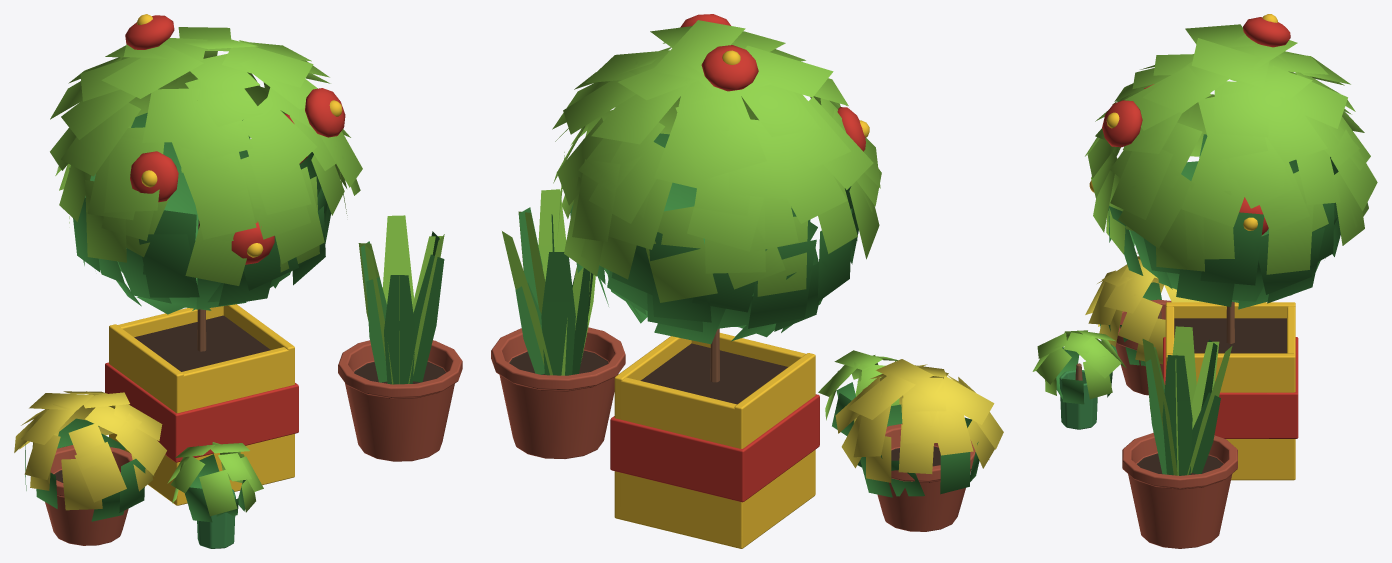
File: prop_plant_pots_b.glb
The picture shows the model from 3 angles, left to right: view 1: azimuth 30°, elevation 25°; view 2: azimuth 150°, elevation 25°; view 3: azimuth 270°, elevation 25°; orthographic projection. The views are drawn at different scales.
Parts seen in each view (by area): view 1: prop_plant_pots_b; view 2: prop_plant_pots_b; view 3: prop_plant_pots_b.
Boxes of the visible parts, x1,y1,x2,y2 form: prop_plant_pots_b: [14, 14, 462, 548]; prop_plant_pots_b: [491, 14, 1003, 548]; prop_plant_pots_b: [1032, 14, 1377, 548].
Bounding box in the file's own units: 1.35 × 1.29 × 0.9562.
